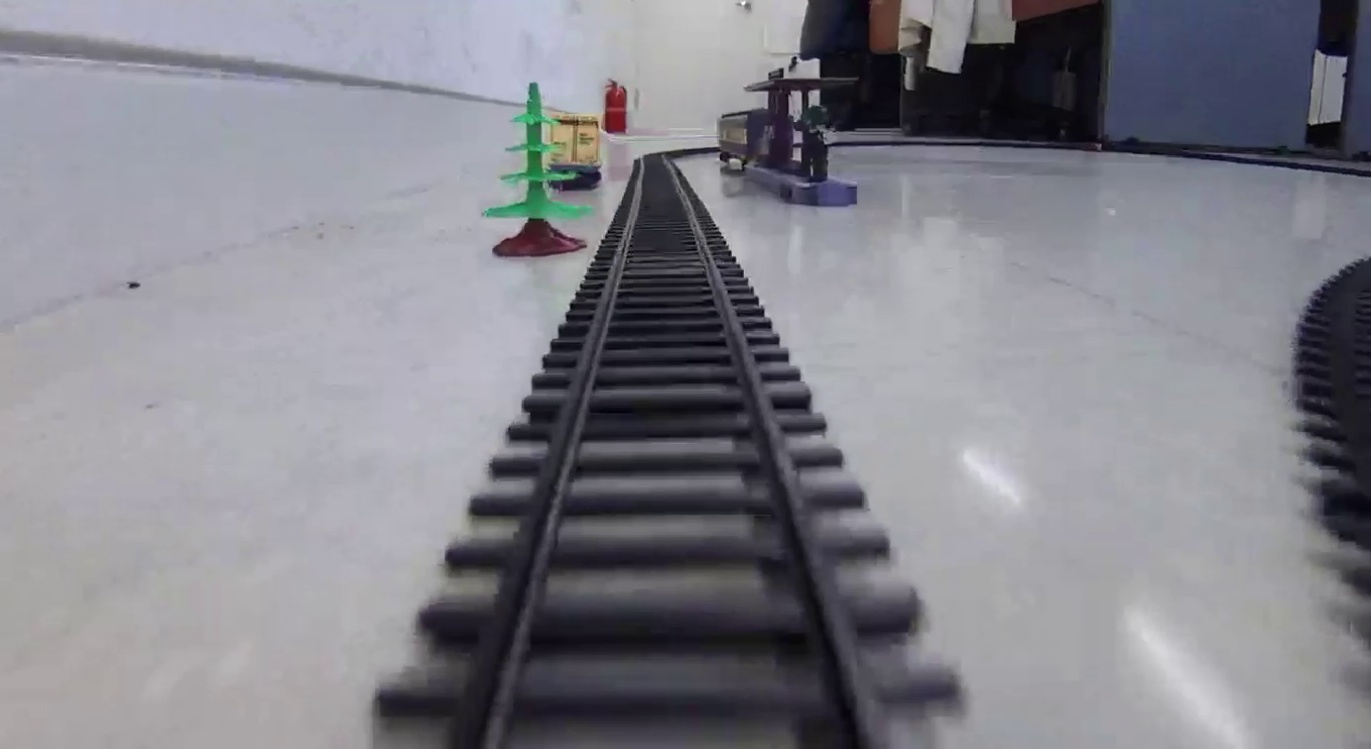tree: (485, 81, 588, 254)
